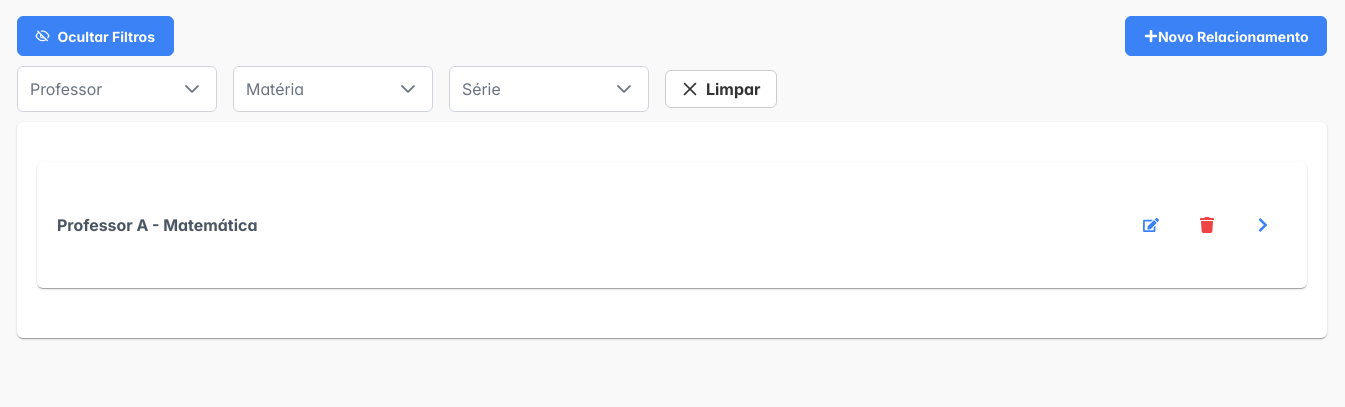
Scenario: Professores › deve renderizar a lista de professores e relacionamentos
Expected: the text "Professor A - Matemática" is shown, [57,215,257,235]
Click the 9th button at [1263, 225], box [1239,202,1287,248]
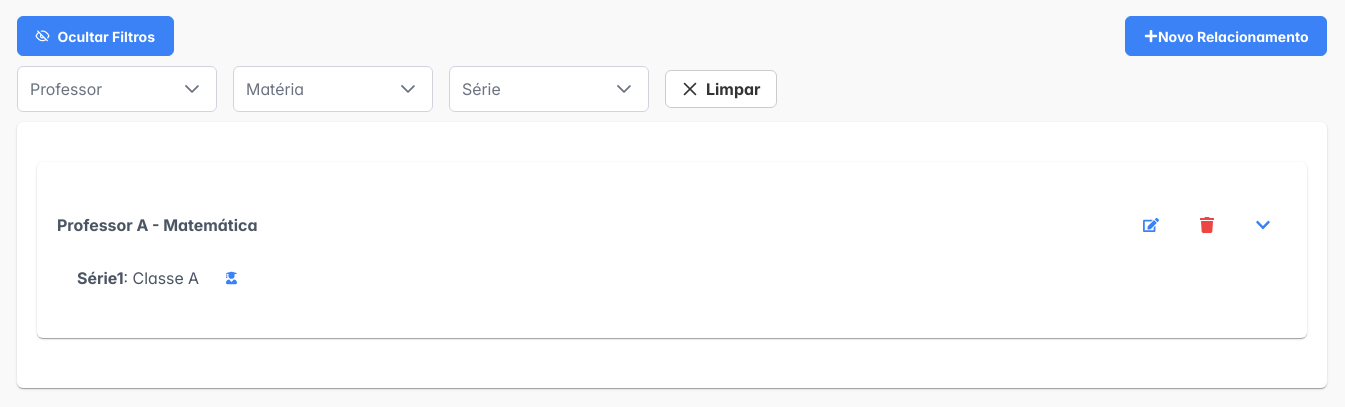
Expected: the text "Série1" is shown, [77,268,124,288]
